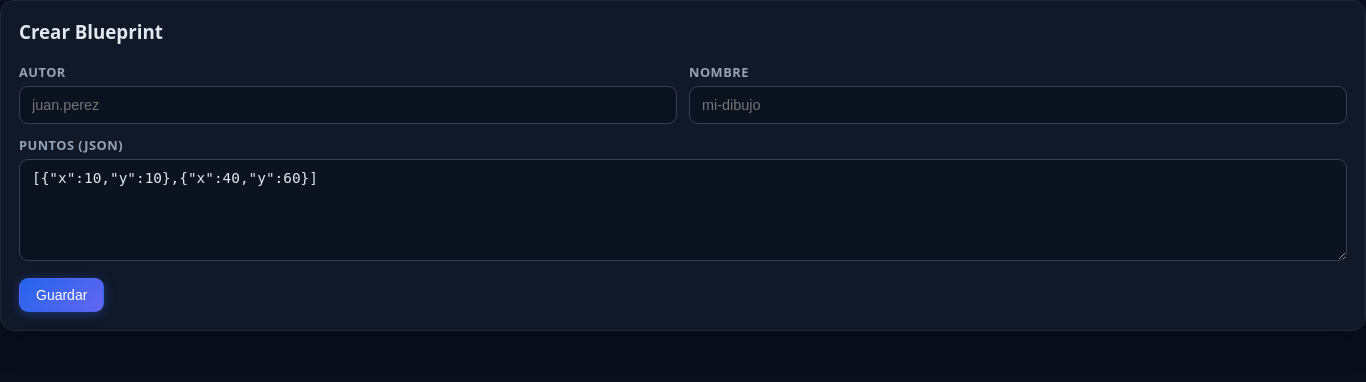
Test case: BlueprintForm › muestra error en el DOM si el JSON de puntos es inválido
In the field with placeholder "juan.perez": (348, 105) [19,86,677,124], type "ana"
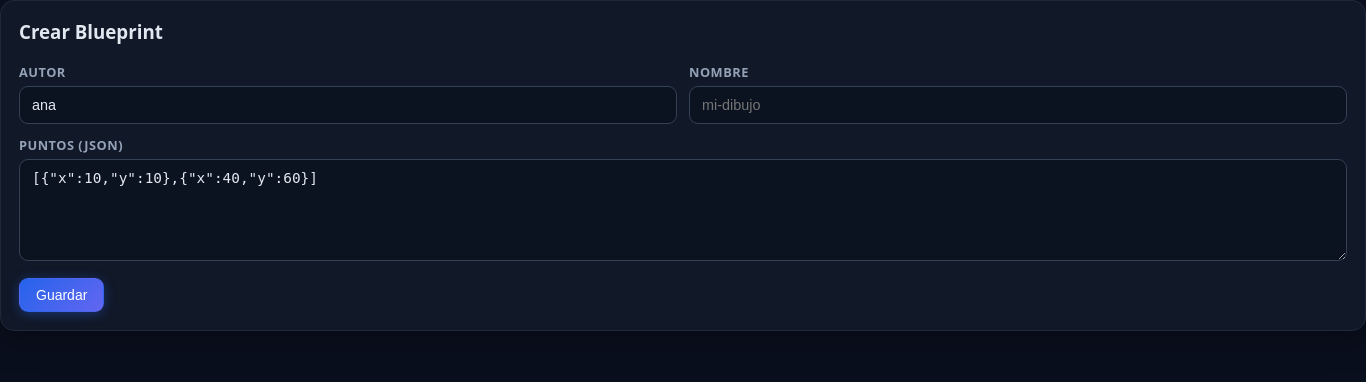
In the field with placeholder "mi-dibujo": (1018, 105) [689,86,1347,124], type "test"
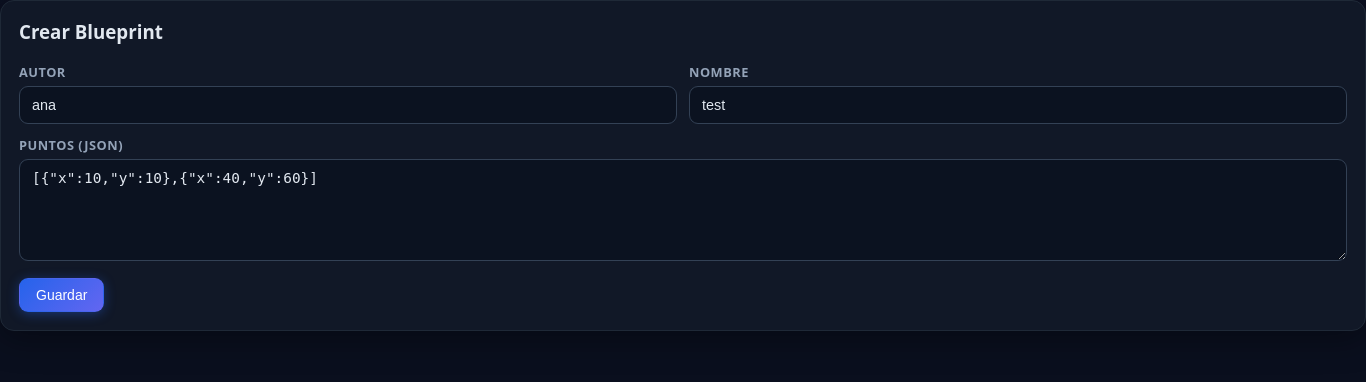
Replace the text in the text box showing "[{\"x\":10,\"y\":10},{\"x\":40,\"y\":60}]" with "esto no es json": (683, 210) [19,159,1347,261]
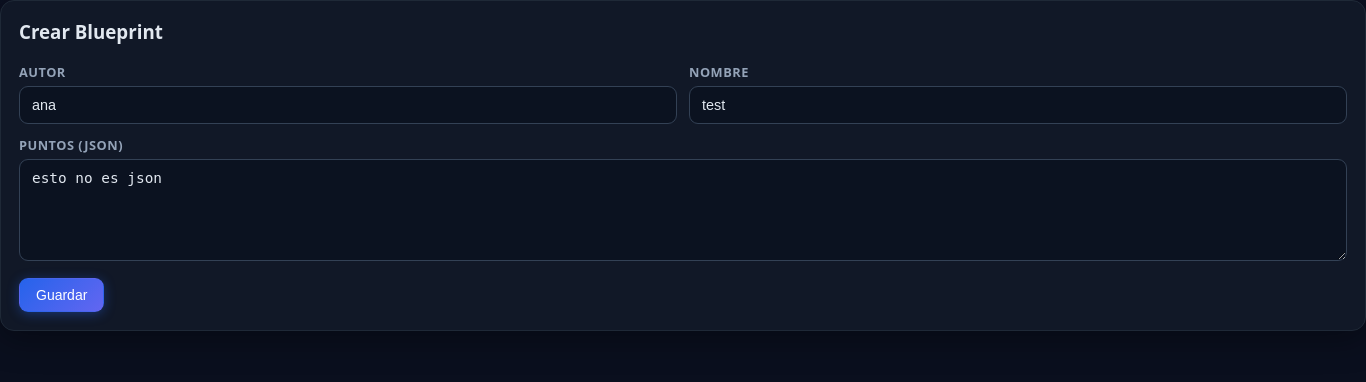
Submit the form from the button "Guardar", box [19,278,104,312]
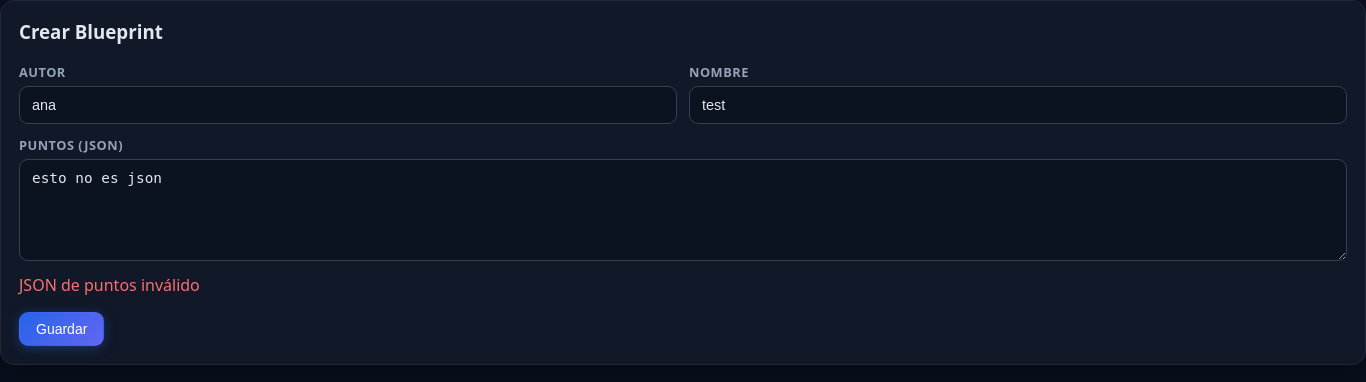
Now the text "JSON de puntos inválido" is shown, box [19,274,200,296]
